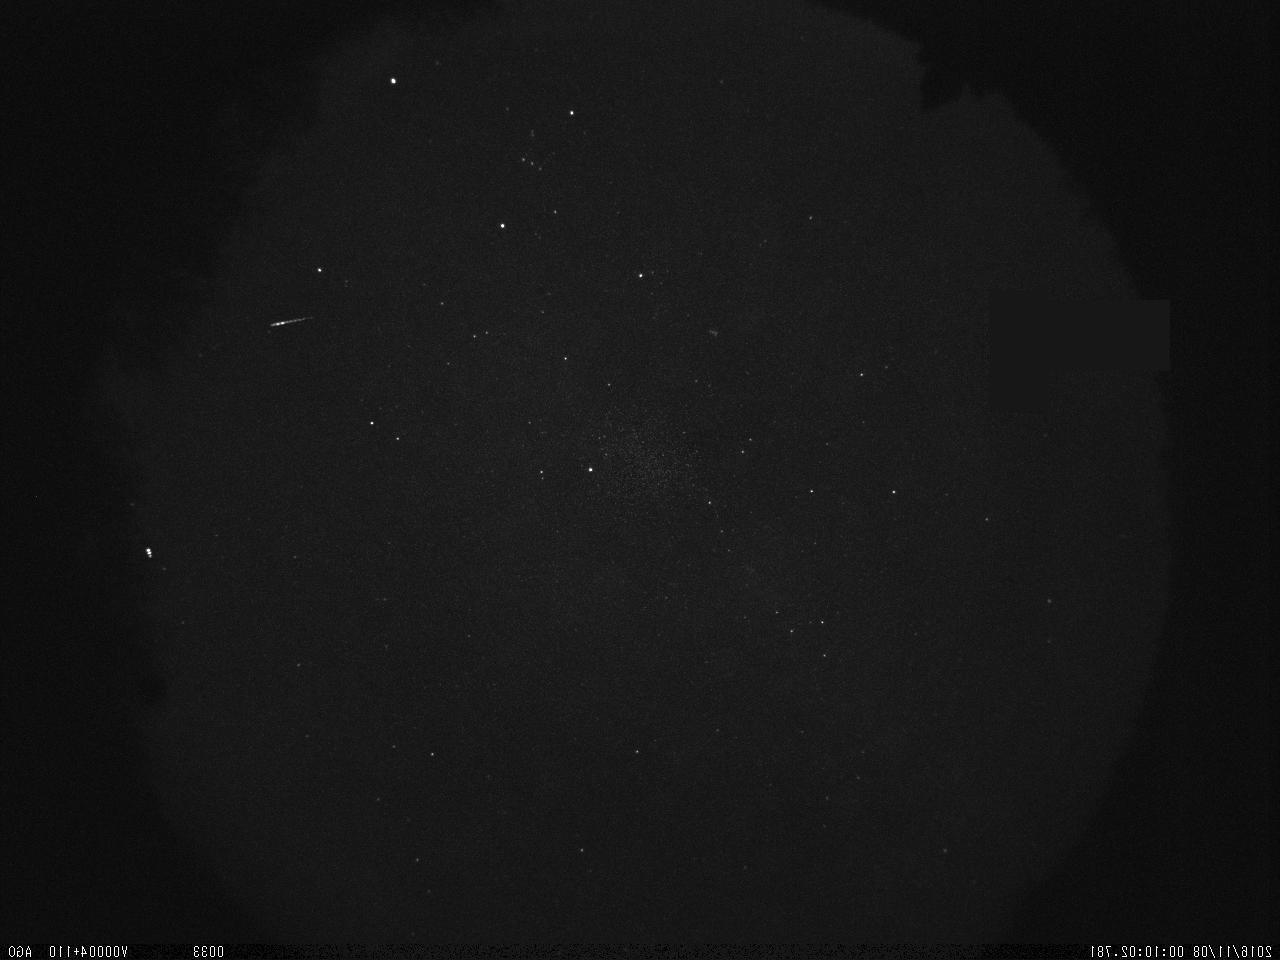meteor: (264, 310, 325, 334)
